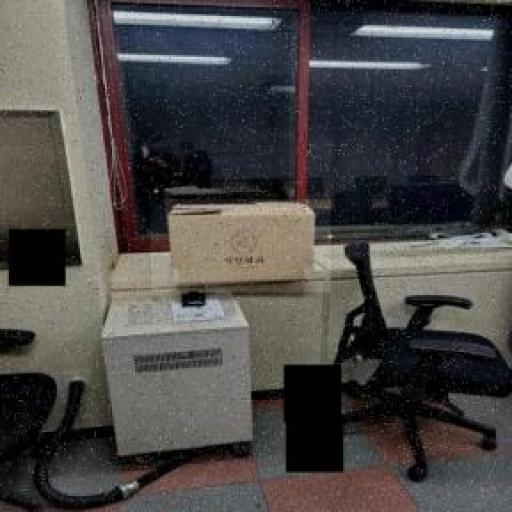box: (151, 199, 331, 292)
